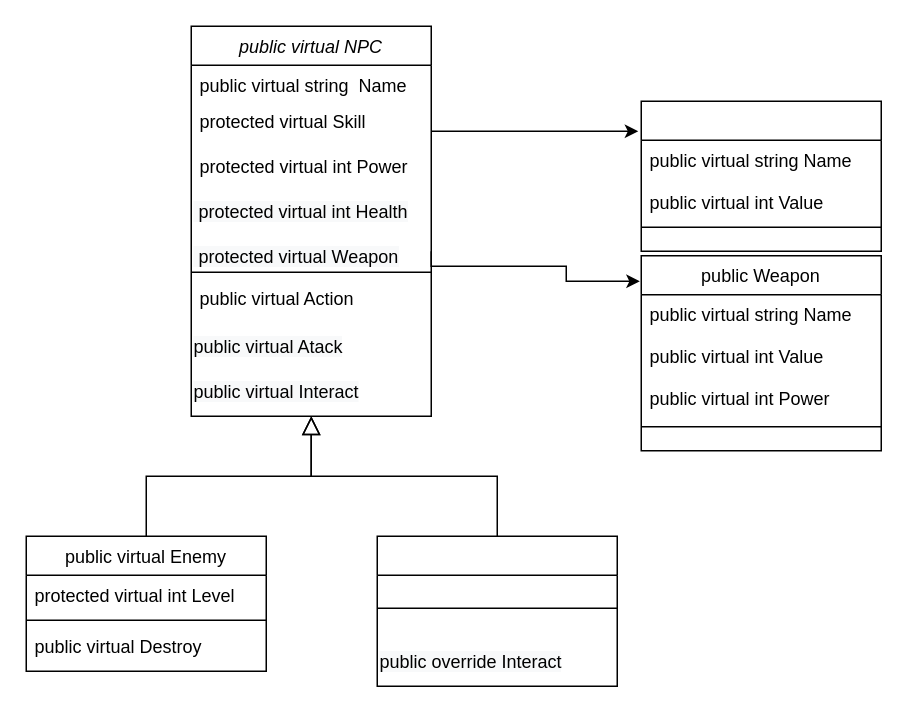
Some shapes in this 908 by 713 pixel diagram are drawn without their labels. Each missing label, with the box of its shape:
public Skill: (640, 100, 881, 251)
public virtual Player: (376, 535, 617, 686)
